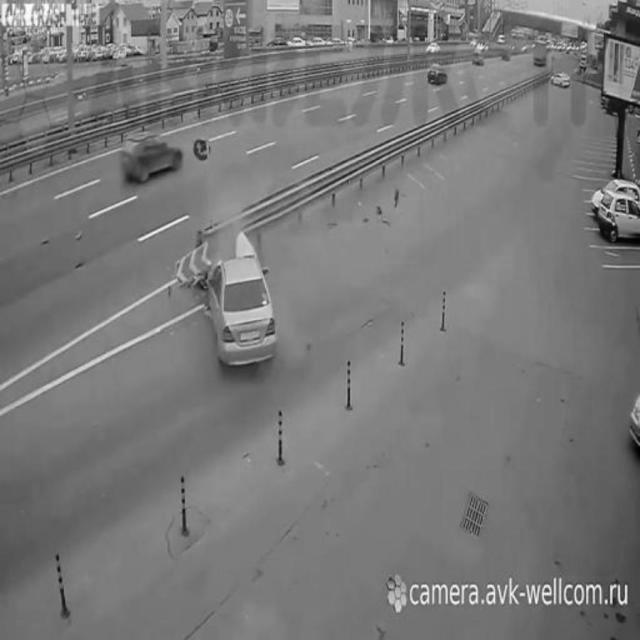accident: (190, 226, 278, 373)
vehicle: (121, 125, 183, 186), (596, 189, 640, 243), (426, 61, 450, 88), (529, 38, 549, 68), (549, 68, 573, 92), (469, 45, 489, 69), (423, 39, 443, 55)
